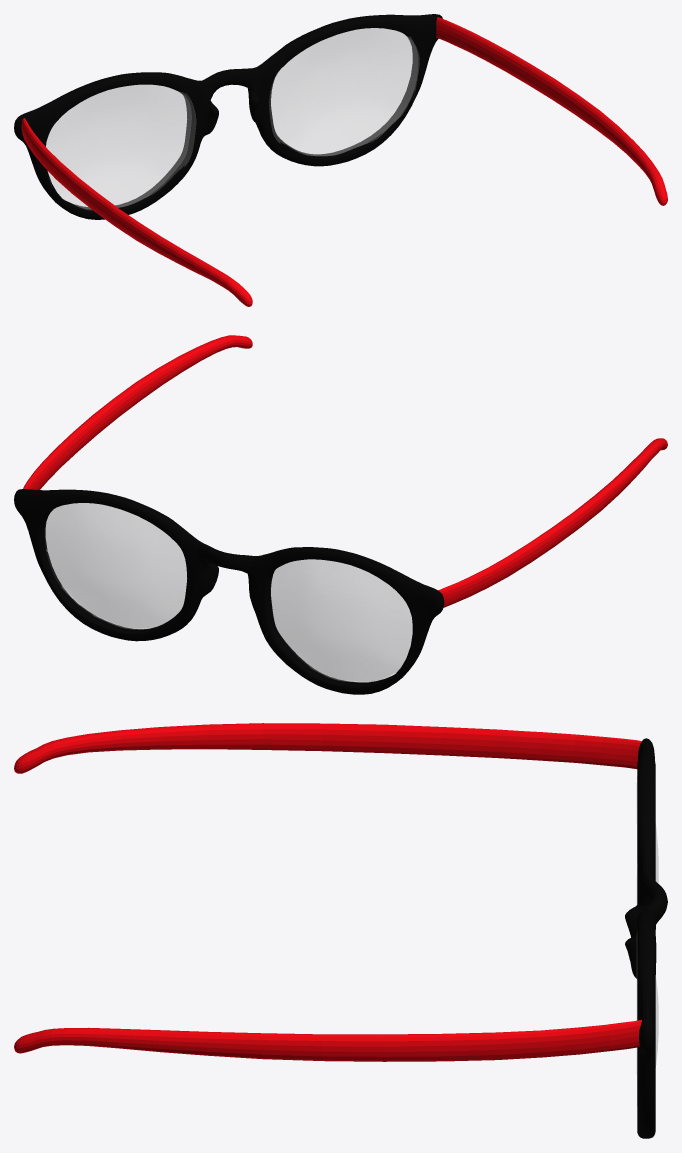
The model's file is rednblack_compressed.glb.
3 views of the same model, one above another, from view 1: azimuth 30°, elevation 25°; view 2: azimuth 150°, elevation 25°; view 3: azimuth 270°, elevation 25° (orthographic). The views are drawn at different scales.
Visible parts, largest first — view 1: lenses_Plane.005, frame.003_Plane.003, handles._Plane.004; view 2: lenses_Plane.005, frame.003_Plane.003, handles._Plane.004; view 3: handles._Plane.004, frame.003_Plane.003.
Boxes of the visible parts, x1,y1,x2,y2 form: lenses_Plane.005: [46, 28, 419, 209]; frame.003_Plane.003: [14, 14, 442, 219]; handles._Plane.004: [21, 17, 667, 306]; lenses_Plane.005: [45, 503, 412, 682]; frame.003_Plane.003: [14, 489, 444, 694]; handles._Plane.004: [23, 335, 667, 607]; handles._Plane.004: [14, 723, 641, 1061]; frame.003_Plane.003: [625, 738, 667, 1138].
Bounding box in the file's own units: 3.65 × 1.04 × 3.18.
